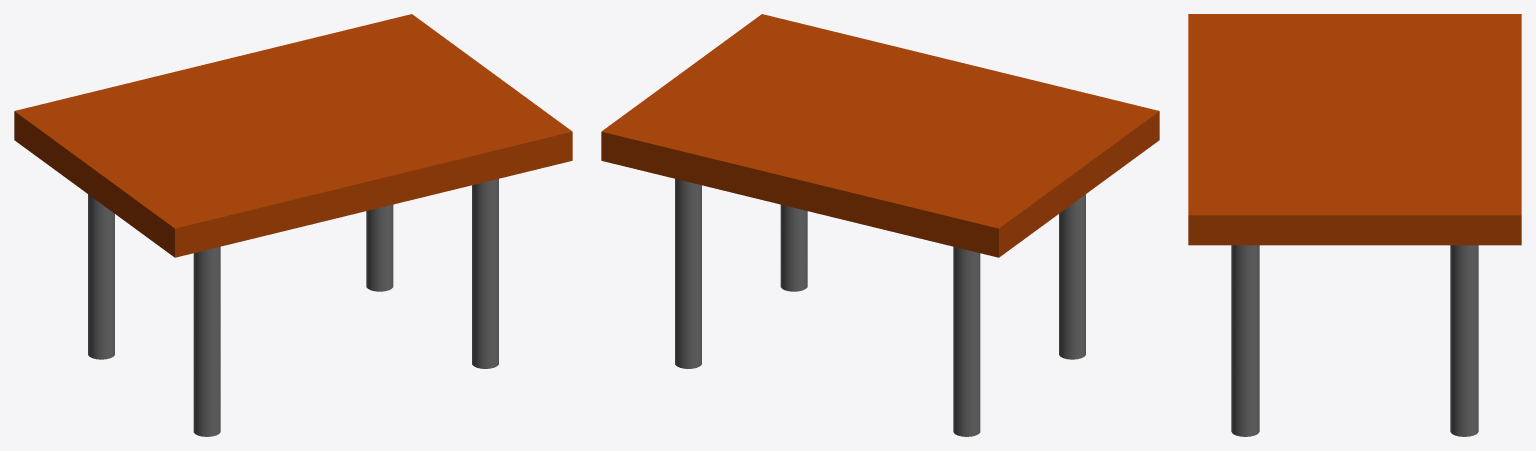
The model's file is desk3.FBX.
The picture shows the model from 3 angles, left to right: view 1: azimuth 30°, elevation 25°; view 2: azimuth 150°, elevation 25°; view 3: azimuth 270°, elevation 25°; orthographic projection. The views are drawn at different scales.
Parts seen in each view (by area): view 1: Box001, Cylinder001, Cylinder004, Cylinder002, Cylinder003; view 2: Box001, Cylinder002, Cylinder003, Cylinder001, Cylinder004; view 3: Box001, Cylinder003, Cylinder004.
Part boxes in pixels (bbox=[...]): Box001: bbox=[14, 14, 572, 257]; Cylinder001: bbox=[193, 246, 220, 436]; Cylinder004: bbox=[472, 179, 498, 368]; Cylinder002: bbox=[88, 194, 114, 359]; Cylinder003: bbox=[366, 204, 393, 291]; Box001: bbox=[601, 14, 1159, 257]; Cylinder002: bbox=[953, 246, 980, 436]; Cylinder003: bbox=[675, 179, 701, 368]; Cylinder001: bbox=[1059, 194, 1085, 359]; Cylinder004: bbox=[780, 204, 807, 291]; Box001: bbox=[1188, 14, 1521, 245]; Cylinder003: bbox=[1450, 245, 1478, 436]; Cylinder004: bbox=[1231, 245, 1259, 436].
Bounding box in the file's own units: 451 × 257 × 316.
